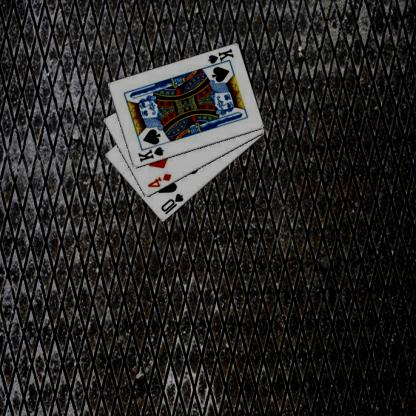10S: (158, 191, 185, 216)
4D: (145, 171, 172, 189)
KS: (205, 47, 235, 69), (135, 144, 165, 163)
